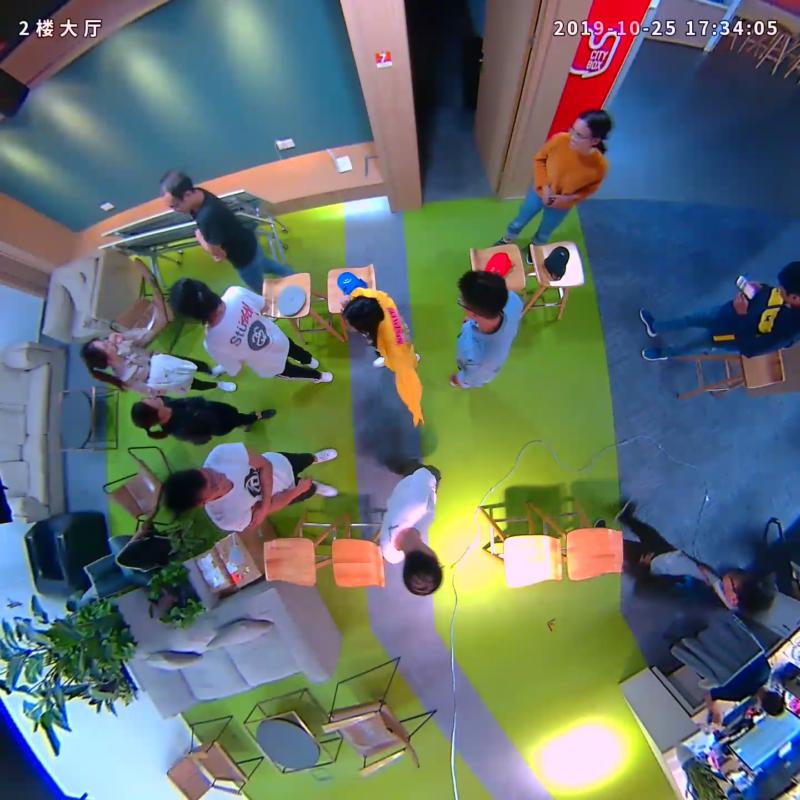head: (161, 467, 227, 511), (720, 567, 776, 615), (457, 270, 509, 320), (402, 544, 443, 596), (168, 277, 213, 321), (568, 108, 611, 151), (160, 170, 194, 214), (342, 295, 381, 333), (80, 336, 119, 369), (130, 397, 164, 427)
